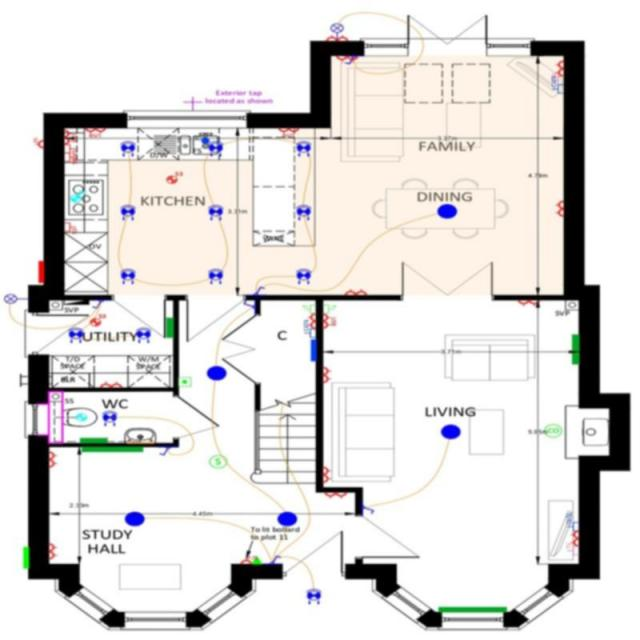BT Entry Point: (252, 556, 260, 563)
Cat 6 Data Socket: (302, 318, 316, 337), (564, 511, 578, 530), (550, 77, 562, 93)
Ceiling Mounted Continuous Extract FanWith Boost Mode Activated By Light Switch: (76, 413, 86, 420)
Ceiling Mounted Continuous Extract FanWith Local Boost Switch: (164, 170, 182, 183), (90, 312, 106, 326)
Co-Ax TV Socket: (566, 542, 576, 555)
Consumer Unit: (63, 299, 89, 304)
Double Socket: (334, 54, 360, 62), (48, 450, 57, 468), (48, 542, 57, 560), (554, 200, 563, 215), (554, 60, 563, 75), (325, 34, 347, 40), (344, 288, 366, 294), (516, 300, 538, 306), (324, 492, 346, 498), (322, 466, 330, 482), (307, 313, 315, 328), (322, 367, 330, 382), (570, 530, 578, 545), (100, 381, 122, 386)
Electric Meter Box: (38, 260, 44, 282)
External Wall Light: (4, 294, 26, 303), (330, 22, 342, 38)
Fused spur: (240, 554, 257, 564)
Gas Meter Box: (22, 547, 28, 567)
Grid Switch: (63, 144, 75, 158)
Hob Switch: (63, 152, 76, 163)
Light Switch: (269, 554, 281, 564), (362, 504, 374, 514), (242, 299, 254, 308), (91, 299, 102, 308), (253, 286, 265, 294), (344, 55, 354, 64), (159, 446, 170, 454)
Low Energy Downlighter: (118, 204, 136, 219), (294, 268, 310, 284), (305, 588, 321, 604), (296, 139, 310, 157), (134, 328, 152, 342), (66, 327, 82, 342), (120, 140, 134, 157), (208, 140, 222, 157), (120, 267, 134, 284), (102, 409, 116, 426), (208, 204, 222, 220), (208, 268, 222, 284), (296, 204, 310, 220)
Low Energy Pendant Light: (206, 365, 227, 381), (276, 510, 297, 526), (439, 424, 461, 438), (124, 511, 144, 526), (437, 204, 456, 218)
Mains Wired Smoke Detector: (208, 454, 227, 468)
Outside Socket: (32, 137, 43, 147)
Outside Tap: (182, 96, 201, 110)
Oven Switch: (64, 222, 77, 234)
Programmable Room Thermostat: (178, 376, 190, 386)
Radiator: (438, 606, 507, 612), (80, 446, 142, 452), (572, 334, 578, 363), (166, 317, 172, 337), (80, 438, 106, 442)
Recirculating Extractor Fan: (70, 188, 86, 202)
TV - Satellite Multisocket: (552, 72, 562, 83)
Telephone Socket: (322, 303, 336, 313), (302, 303, 314, 312)
USB Double Socket: (278, 126, 298, 137), (322, 313, 336, 327), (86, 127, 104, 137), (64, 129, 76, 144)
Underfloor Heating Manifold: (310, 339, 316, 361)
Water Entry Position: (201, 137, 209, 143)
